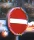No entry: (5, 6, 29, 35)
